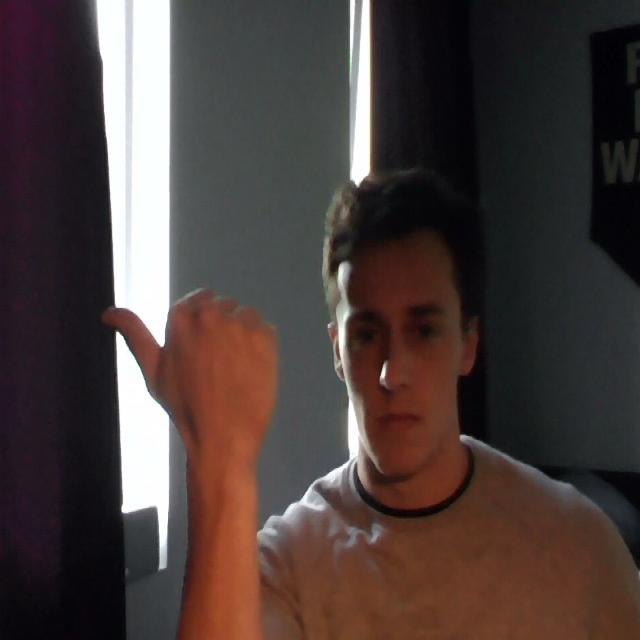left: (93, 275, 289, 477)
